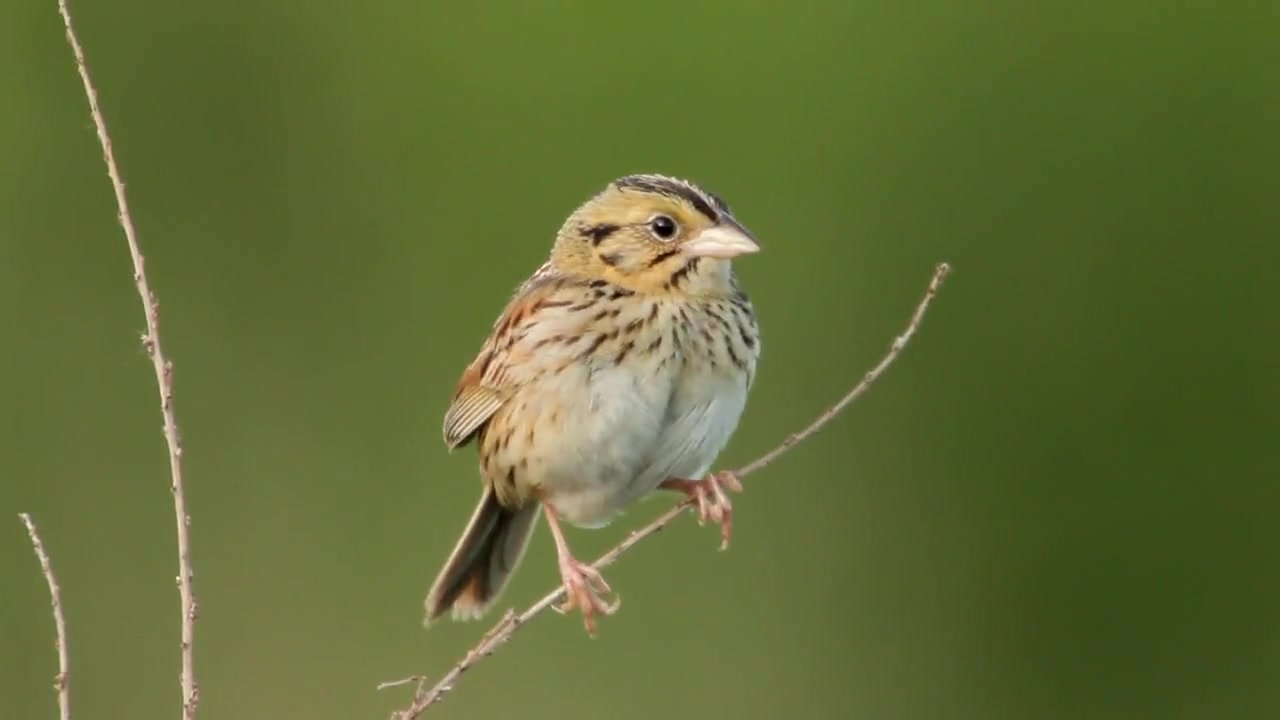bird: (423, 173, 763, 639)
